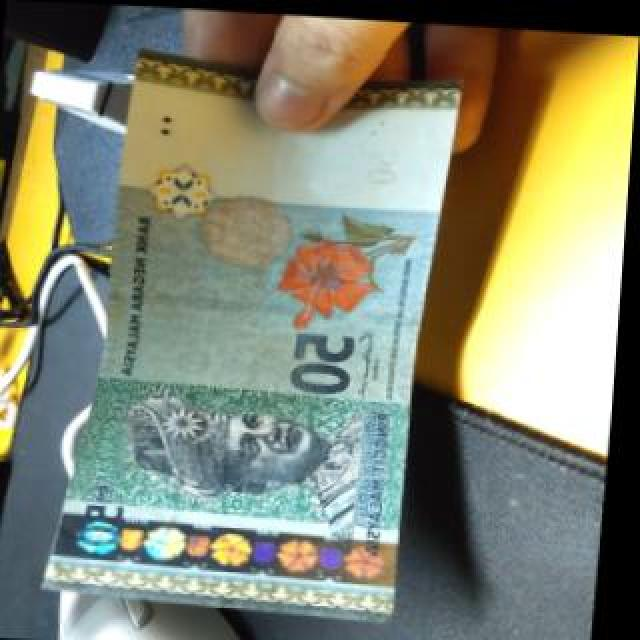50 Ringgit: (42, 48, 468, 618)
